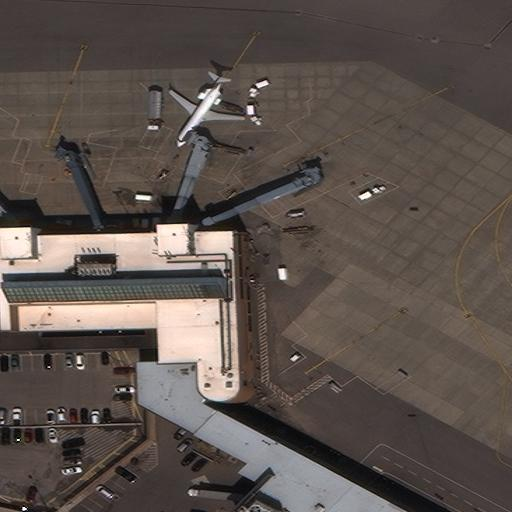Medium Civil Transport: (168, 74, 245, 146)
